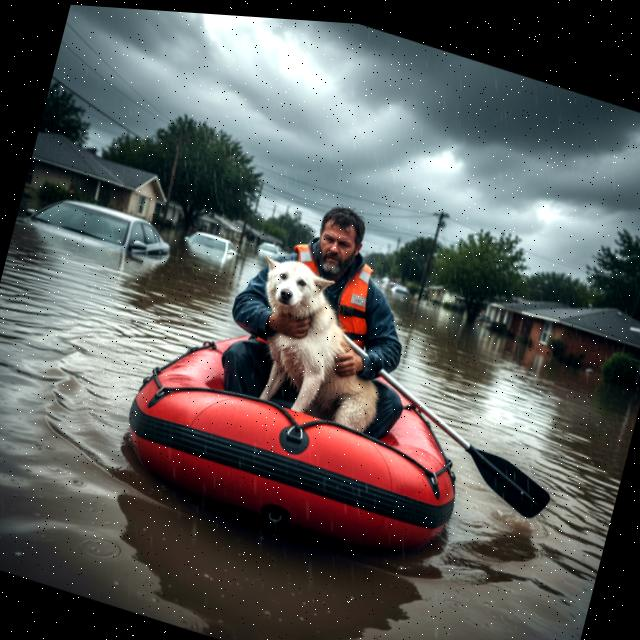dog: (226, 241, 412, 448)
rescuer: (216, 173, 447, 454)
